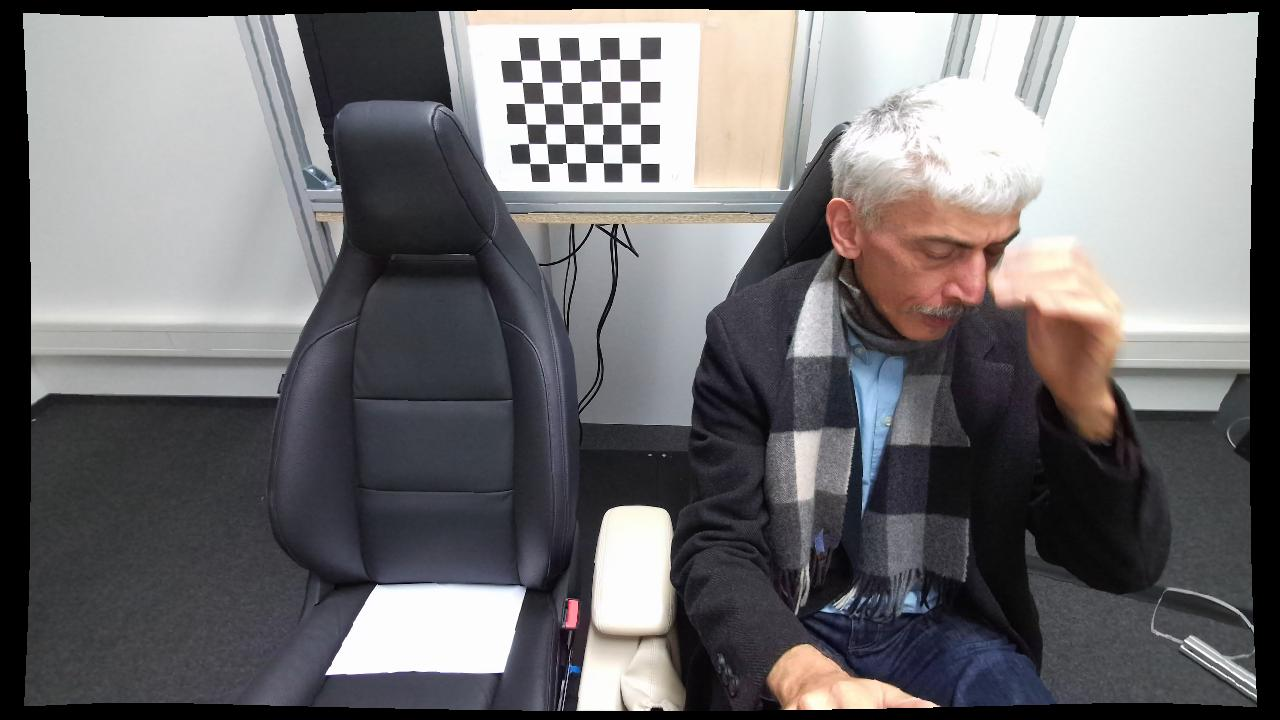Distracted: (672, 77, 1151, 709)
